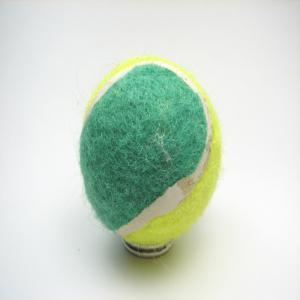TennisBall: (79, 57, 221, 247)
